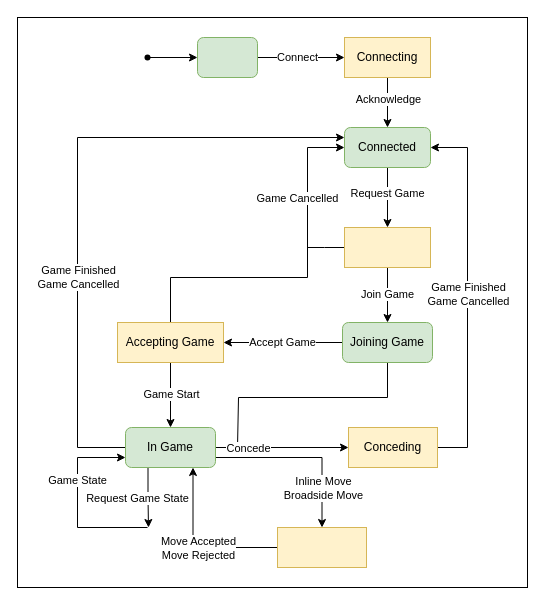
Some shapes in this 545 by 605 pixel diagram are drawn without their labels. The centre of each missing label's shape, as x and y in pixels:
Init: (227,57)
Lobby: (387,247)
Moving: (321,547)
